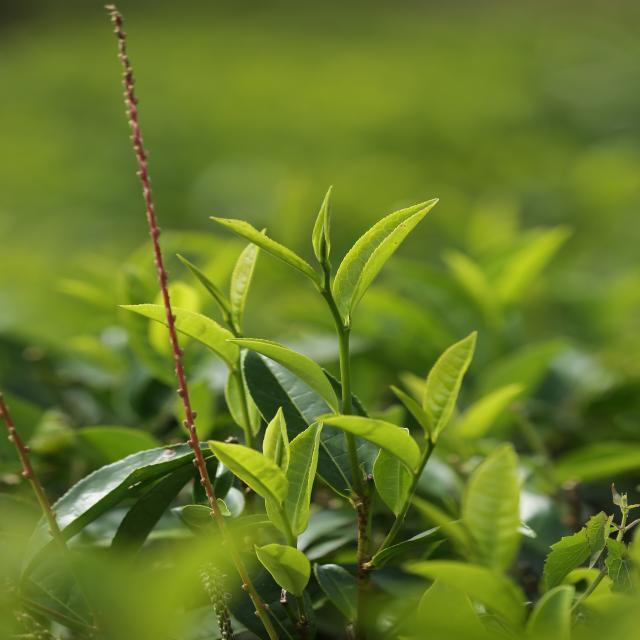Stem: (320, 288, 333, 300), (424, 444, 434, 455), (226, 319, 234, 328)
